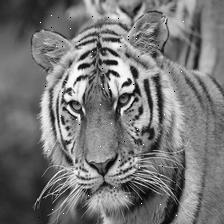tiger: (38, 13, 185, 224)
